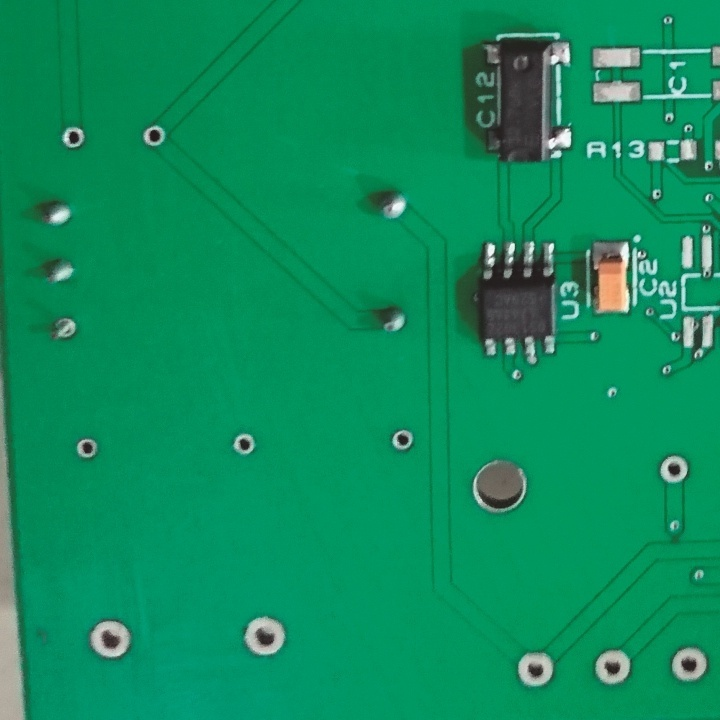F: (236, 609, 290, 661), (82, 615, 137, 663), (510, 649, 559, 691), (590, 642, 632, 691), (670, 644, 712, 688), (656, 453, 692, 486), (387, 426, 420, 458), (50, 314, 81, 344), (227, 429, 257, 459), (56, 124, 91, 149), (139, 122, 168, 149), (73, 438, 100, 460)
